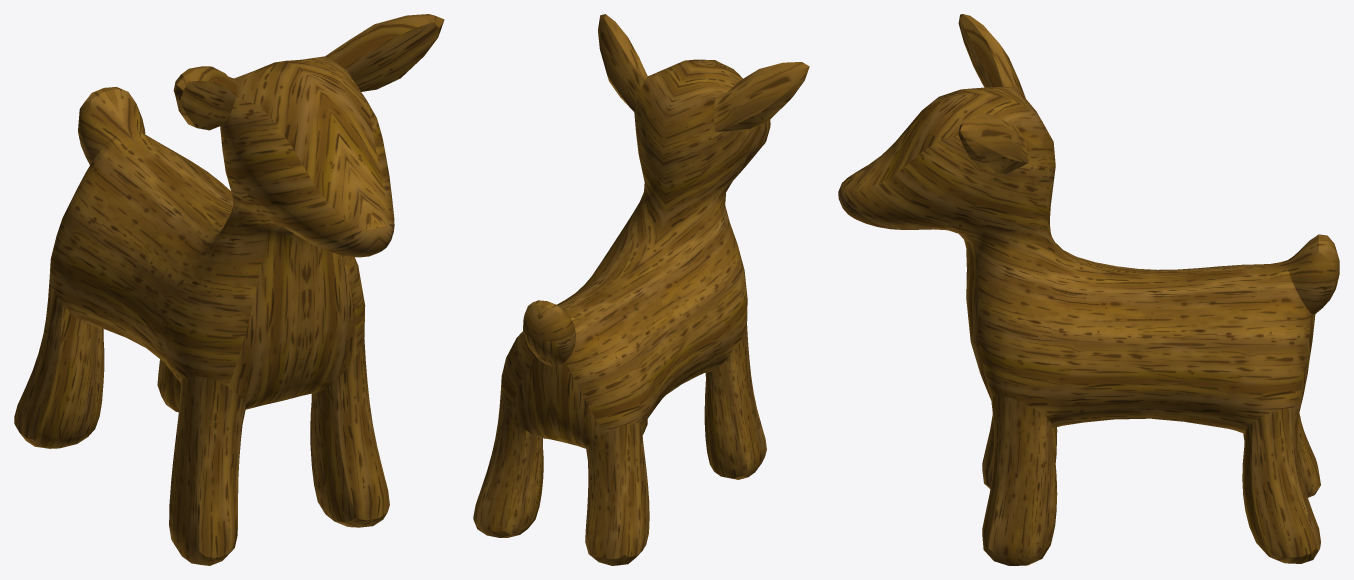
Rendered from Toy.glb.
3 views of the same model, side by side, from view 1: azimuth 30°, elevation 25°; view 2: azimuth 150°, elevation 25°; view 3: azimuth 270°, elevation 25° (orthographic). The views are drawn at different scales.
Visible parts, largest first — view 1: Toy; view 2: Toy; view 3: Toy.
Part boxes in pixels (bbox=[...]): Toy: bbox=[14, 14, 444, 565]; Toy: bbox=[473, 14, 809, 565]; Toy: bbox=[838, 14, 1339, 565].
Bounding box in the file's own units: 3.32 × 6.14 × 6.04.
Materials: 1 (1 with a texture image).
